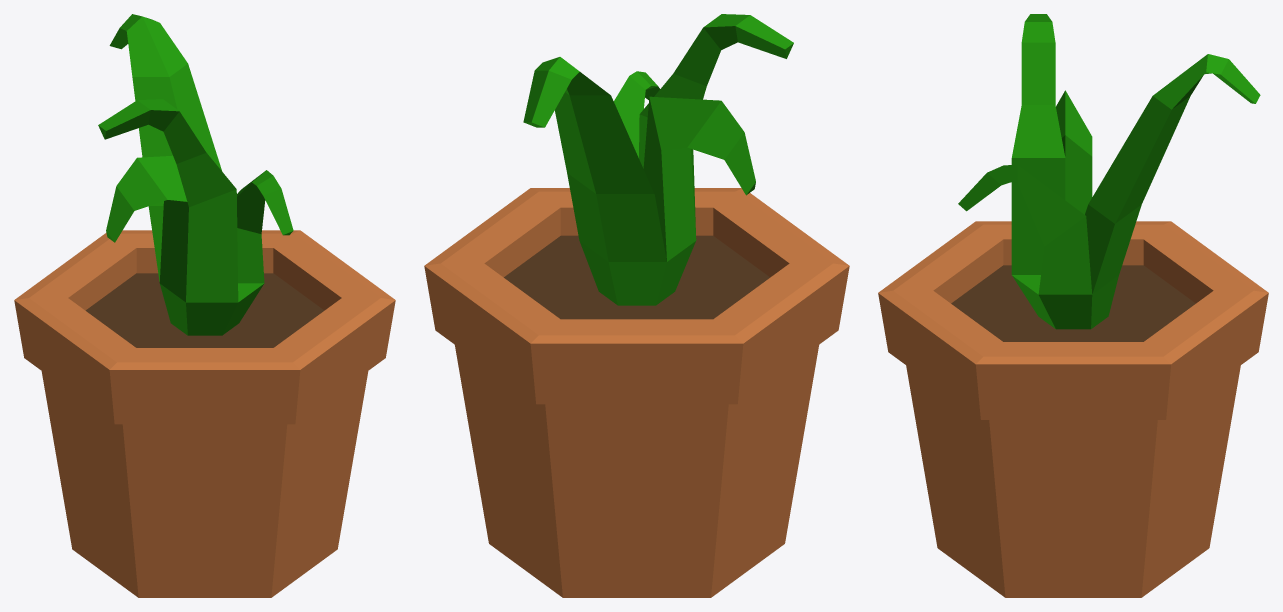
Rendered from plant.fbx.
The picture shows the model from 3 angles, left to right: view 1: azimuth 30°, elevation 25°; view 2: azimuth 150°, elevation 25°; view 3: azimuth 270°, elevation 25°; orthographic projection. The views are drawn at different scales.
Visible parts, largest first — view 1: Cylinder; view 2: Cylinder; view 3: Cylinder.
Boxes of the visible parts, x1=… form: Cylinder: x1=14, y1=14, x2=395, y2=597; Cylinder: x1=424, y1=14, x2=849, y2=597; Cylinder: x1=878, y1=14, x2=1268, y2=597.
Size of the model in its own units: 188 by 304 by 217.
